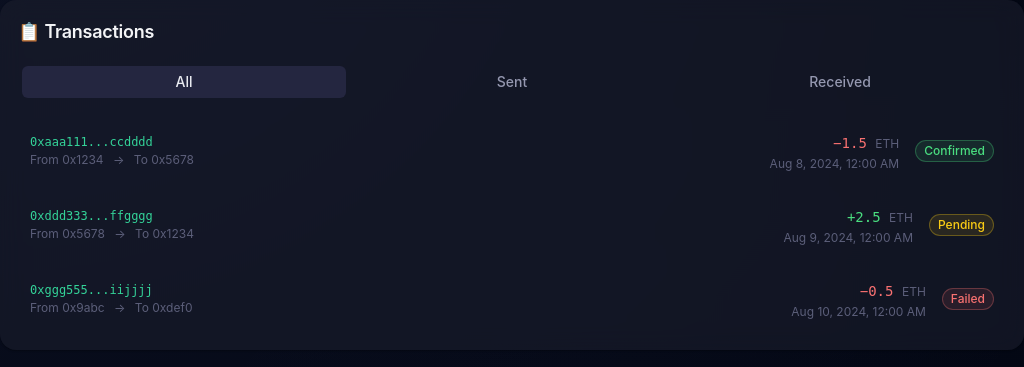
TransactionHistory.svelte › copies txid to clipboard on click
The image size is (1024, 367).
Click the button "0xaaa111...ccdddd". click: (91,142)
box: [30, 134, 153, 150]
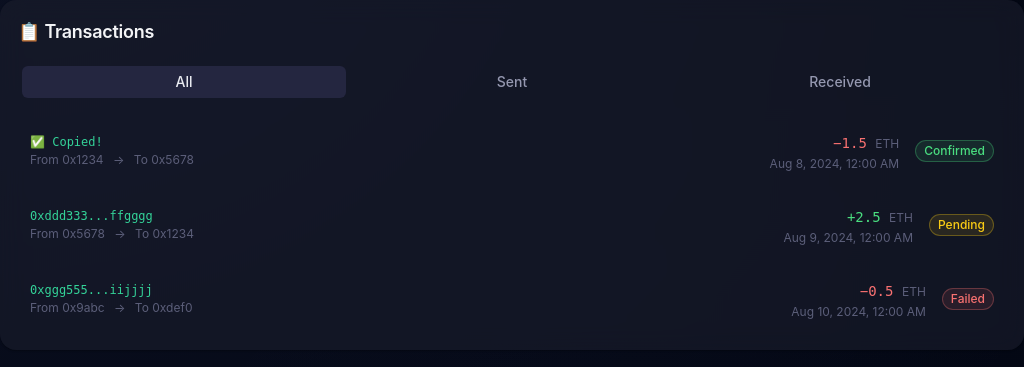
Expected: the button "✅ Copied!" is shown, [30, 134, 103, 150]
